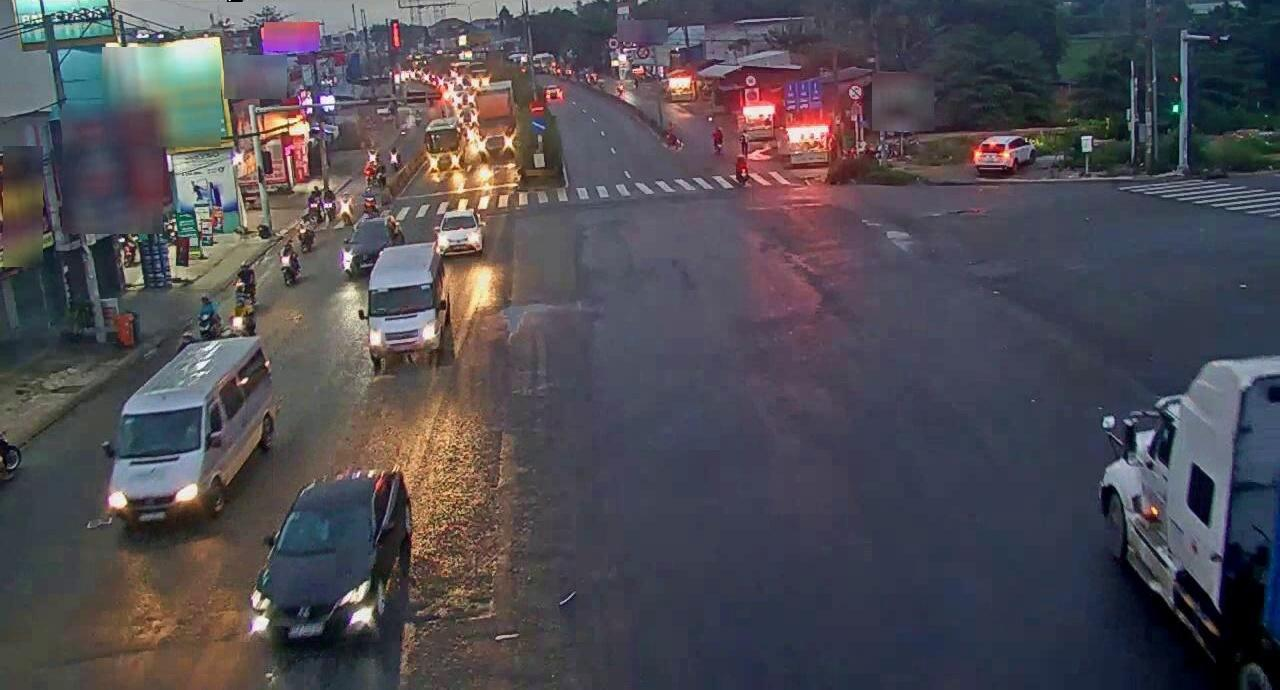xe hoi: (251, 461, 410, 640), (435, 206, 482, 259)
xe van: (100, 338, 282, 523), (365, 242, 445, 359)
